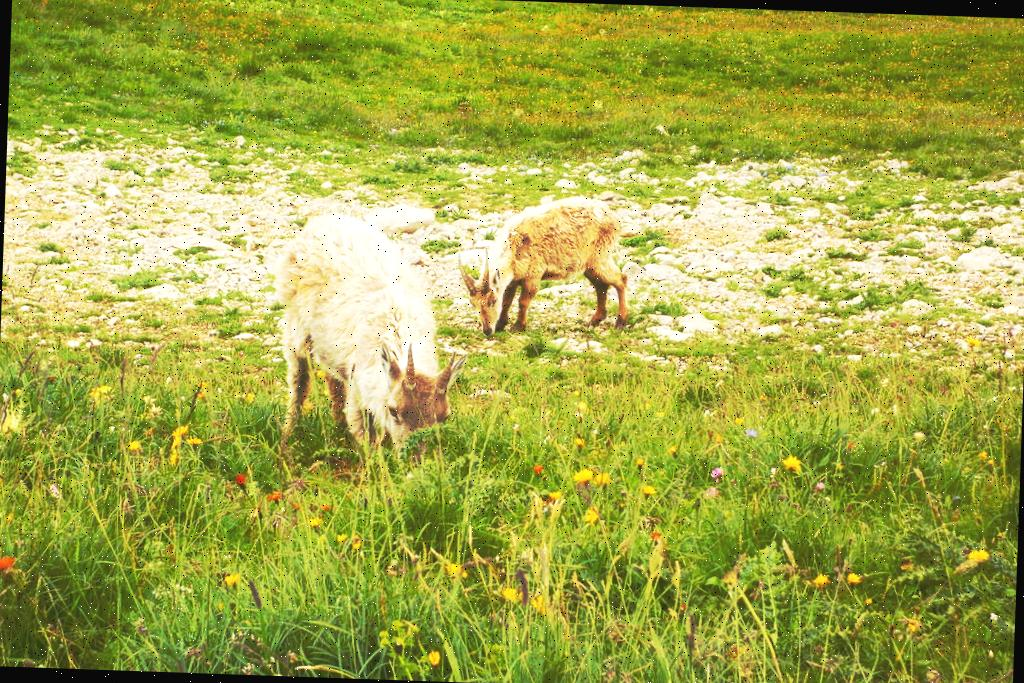Sheep: (261, 208, 468, 469), (450, 184, 634, 341)
